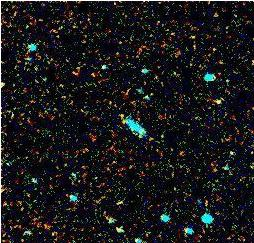star: (105, 104, 135, 134)
